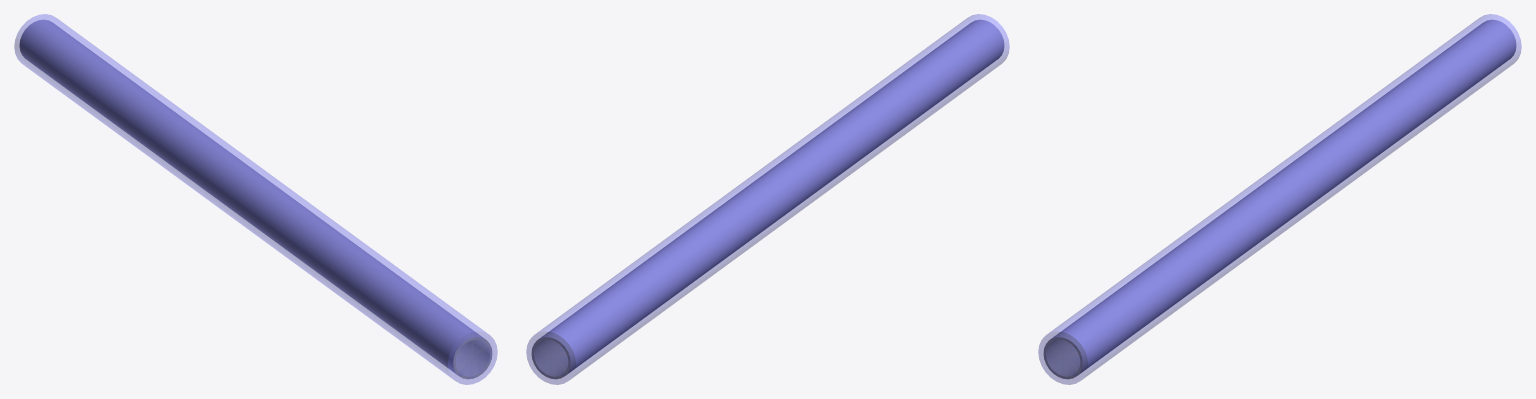
Rendered from QMag2Field.gltf.
3 renders of one model, left to right at view 1: azimuth 30°, elevation 25°; view 2: azimuth 150°, elevation 25°; view 3: azimuth 330°, elevation 25°, orthographic.
Parts seen in each view (by area): view 1: QMag2Field0x2239ce0, logicQMagFieldPipeQMag2Pipe_pv0x2237fc0, logicQMagFieldPipeQMag2Vac_pv0x2237ff8; view 2: QMag2Field0x2239ce0, logicQMagFieldPipeQMag2Pipe_pv0x2237fc0, logicQMagFieldPipeQMag2Vac_pv0x2237ff8; view 3: QMag2Field0x2239ce0, logicQMagFieldPipeQMag2Pipe_pv0x2237fc0, logicQMagFieldPipeQMag2Vac_pv0x2237ff8.
Boxes of the visible parts, <box> form: QMag2Field0x2239ce0: <box>14,14,497,384</box>; logicQMagFieldPipeQMag2Pipe_pv0x2237fc0: <box>19,19,492,379</box>; logicQMagFieldPipeQMag2Vac_pv0x2237ff8: <box>456,340,489,376</box>; QMag2Field0x2239ce0: <box>526,14,1009,384</box>; logicQMagFieldPipeQMag2Pipe_pv0x2237fc0: <box>531,19,1004,379</box>; logicQMagFieldPipeQMag2Vac_pv0x2237ff8: <box>534,340,567,376</box>; QMag2Field0x2239ce0: <box>1038,14,1521,384</box>; logicQMagFieldPipeQMag2Pipe_pv0x2237fc0: <box>1043,19,1516,379</box>; logicQMagFieldPipeQMag2Vac_pv0x2237ff8: <box>1046,340,1079,376</box>.
Bounding box in the file's own units: 6.47 × 6.47 × 97.33.
